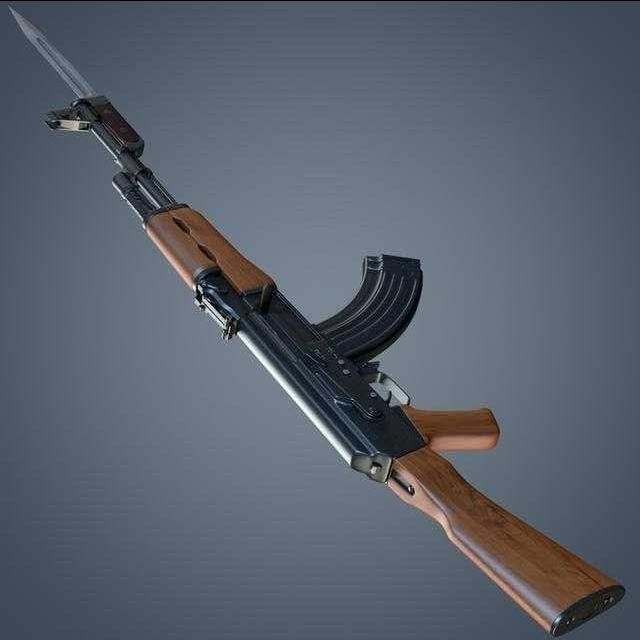heavyweapon: (34, 77, 640, 632)
